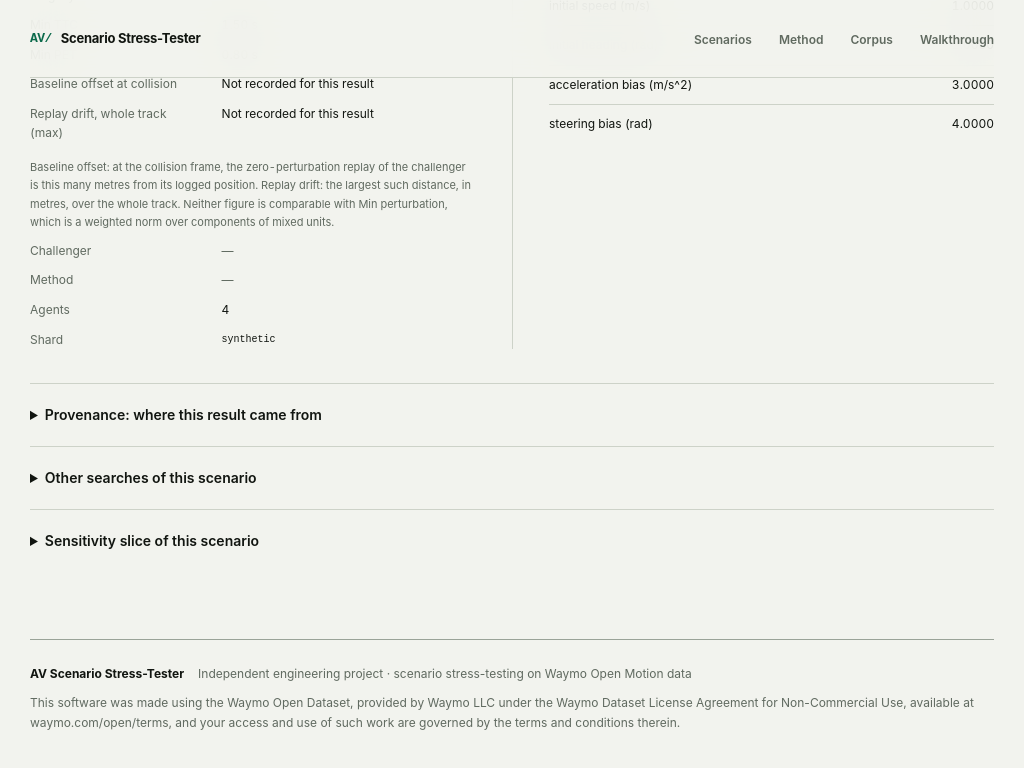
Test: what it says › does not carry the old wording, which said every search was run with a seed or a budget of its own
(page scrolled)
Click the heading "Other searches of this scenario".
click(151, 477)  # box [45,469,257,486]
(page scrolled)
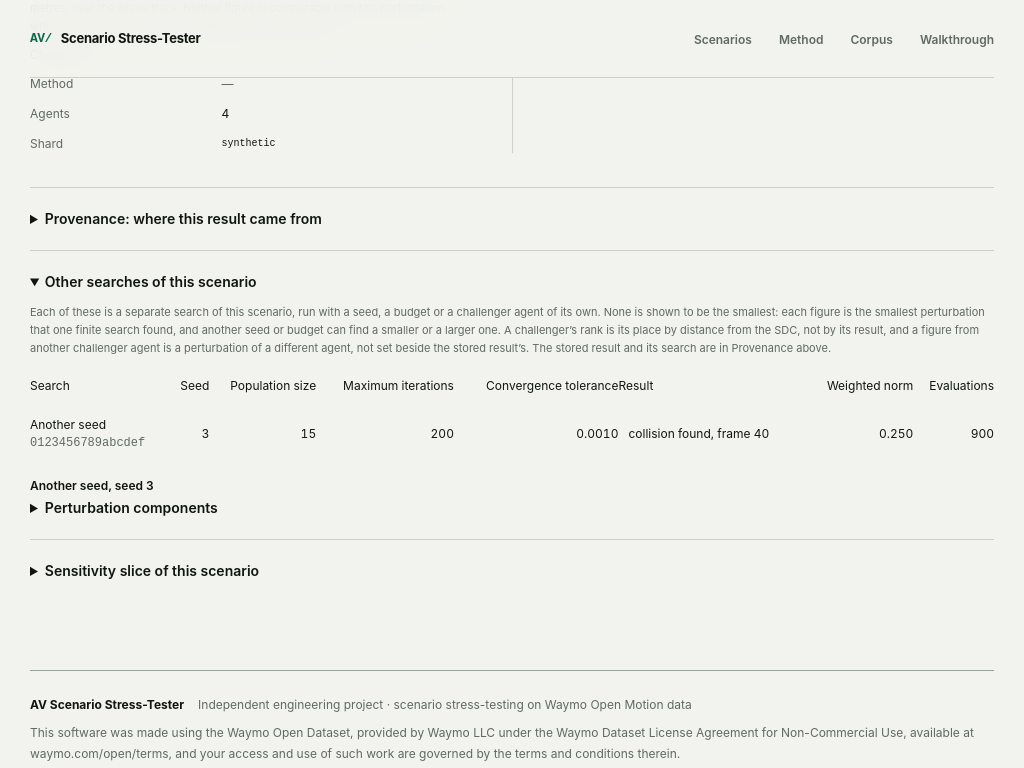
Check: the text "Other searches of this scenario" shows "a seed, a budget or a challenger agent of its own", box [30,304,985,355]
